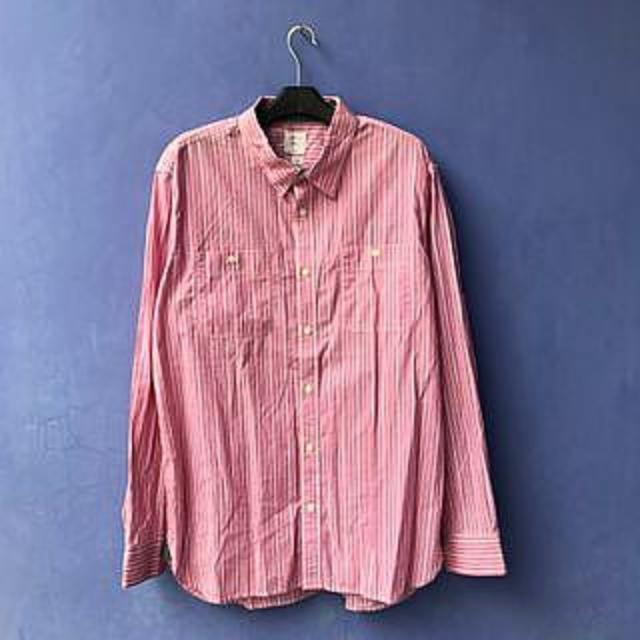SHIRT: (107, 80, 530, 613)
